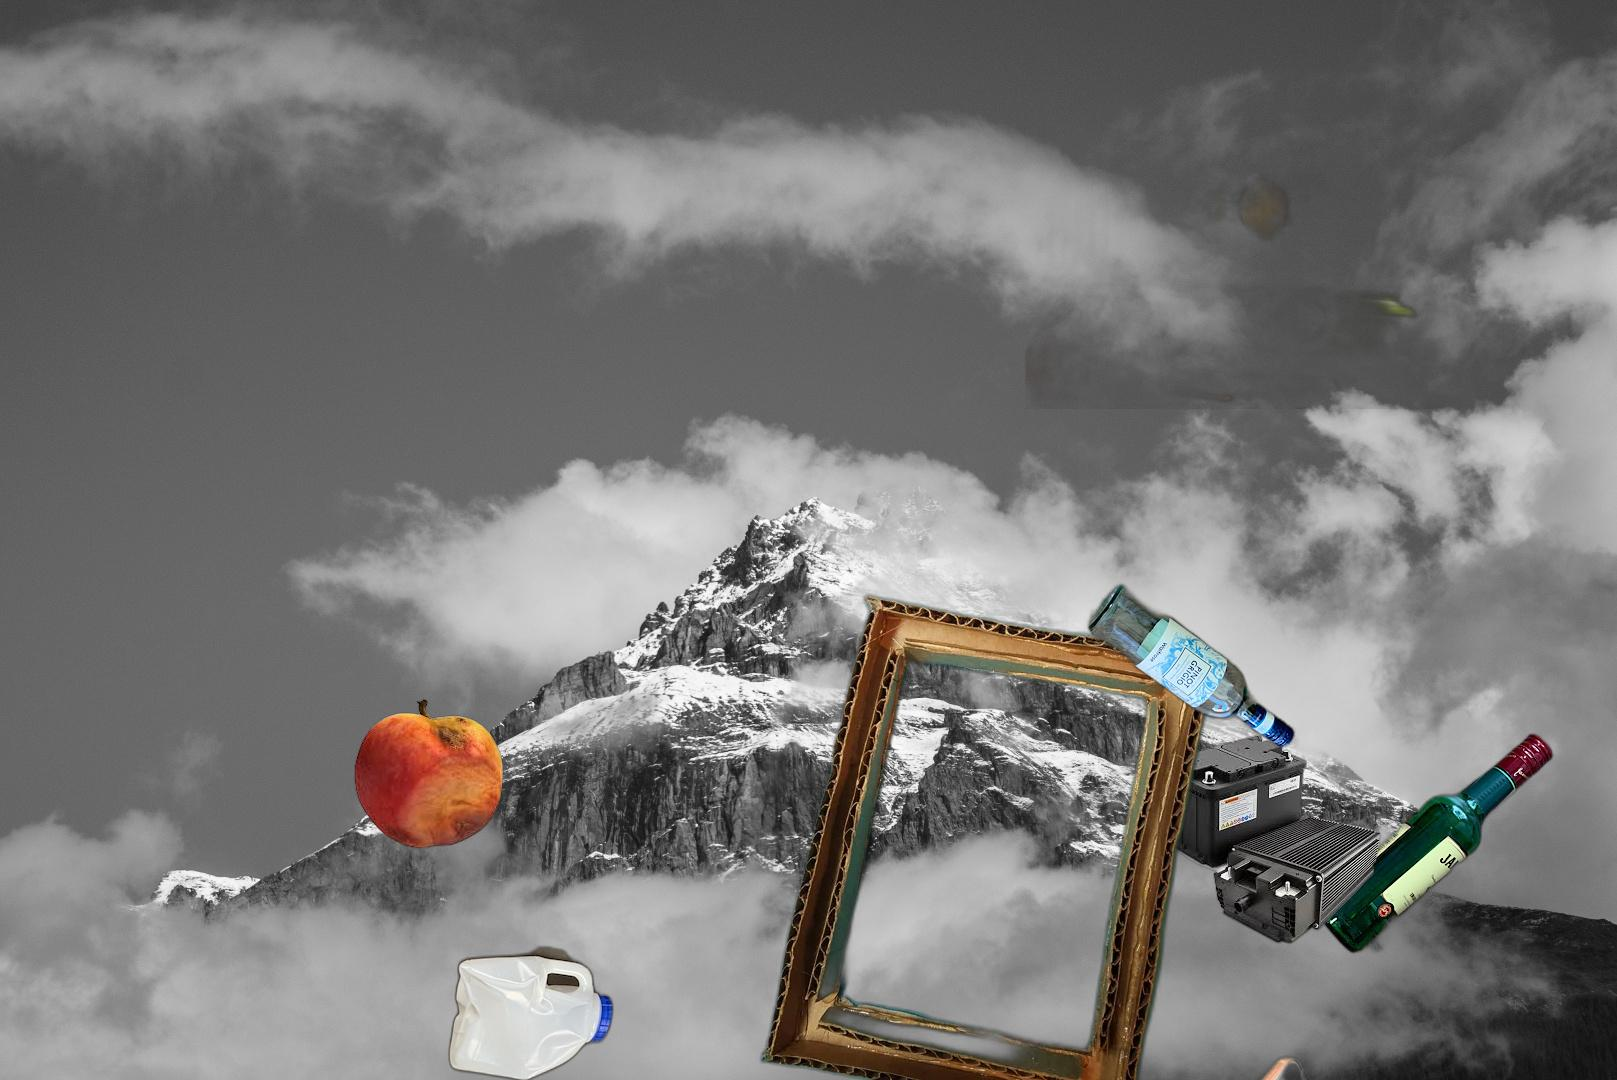battery: (1159, 732, 1381, 947)
biological: (352, 695, 506, 851)
glass: (1309, 728, 1557, 959), (1083, 579, 1303, 753)
paper: (1025, 111, 1537, 409)
penholder: (500, 1022, 1410, 1080)
plastic-bottles: (445, 940, 618, 1080)
trashbox-cardboard: (598, 345, 1390, 1080)
